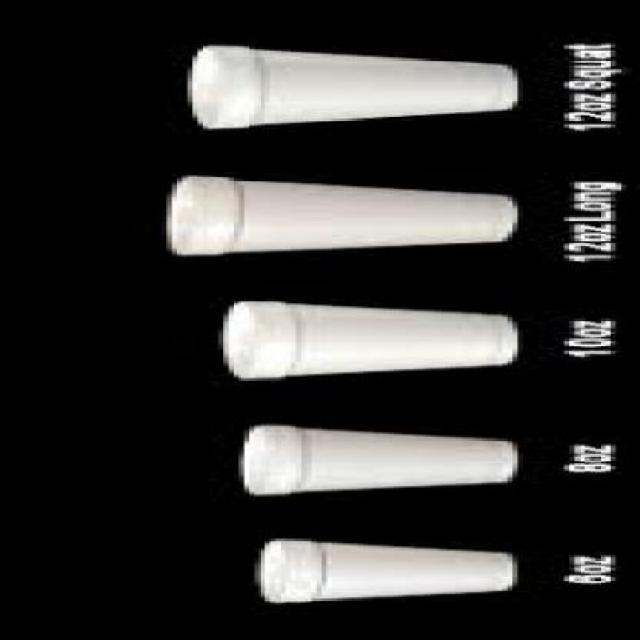PAPER: (154, 179, 506, 259), (175, 48, 511, 130), (212, 301, 511, 384), (232, 428, 516, 498), (248, 541, 510, 607)
